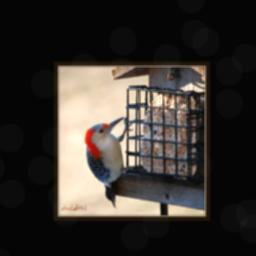Woodpecker: (85, 117, 135, 209)
